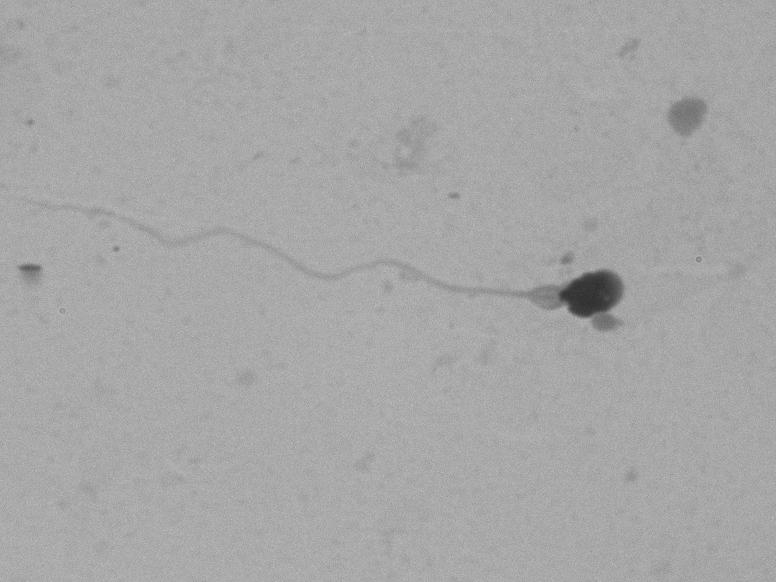Abnormal: (63, 167, 639, 332)
